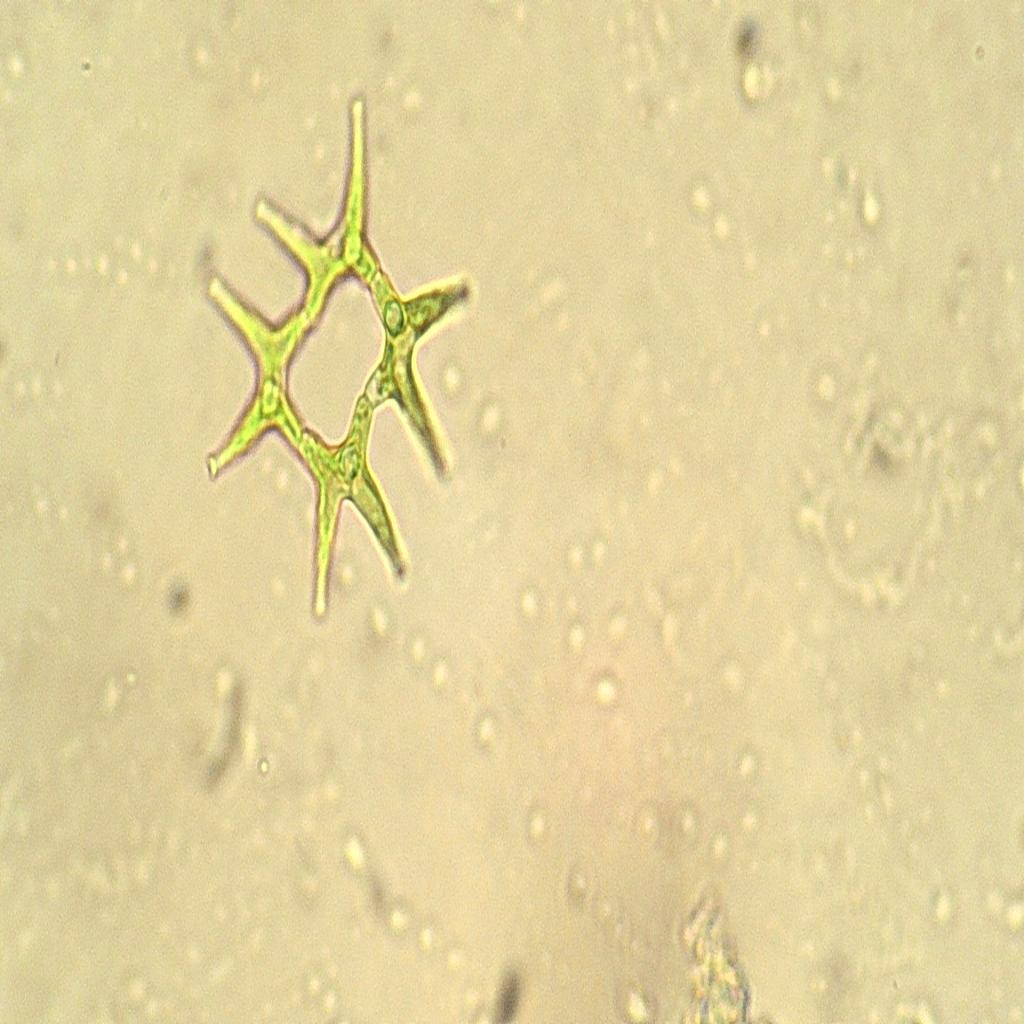Pediastrum_75O: (189, 64, 487, 640)
